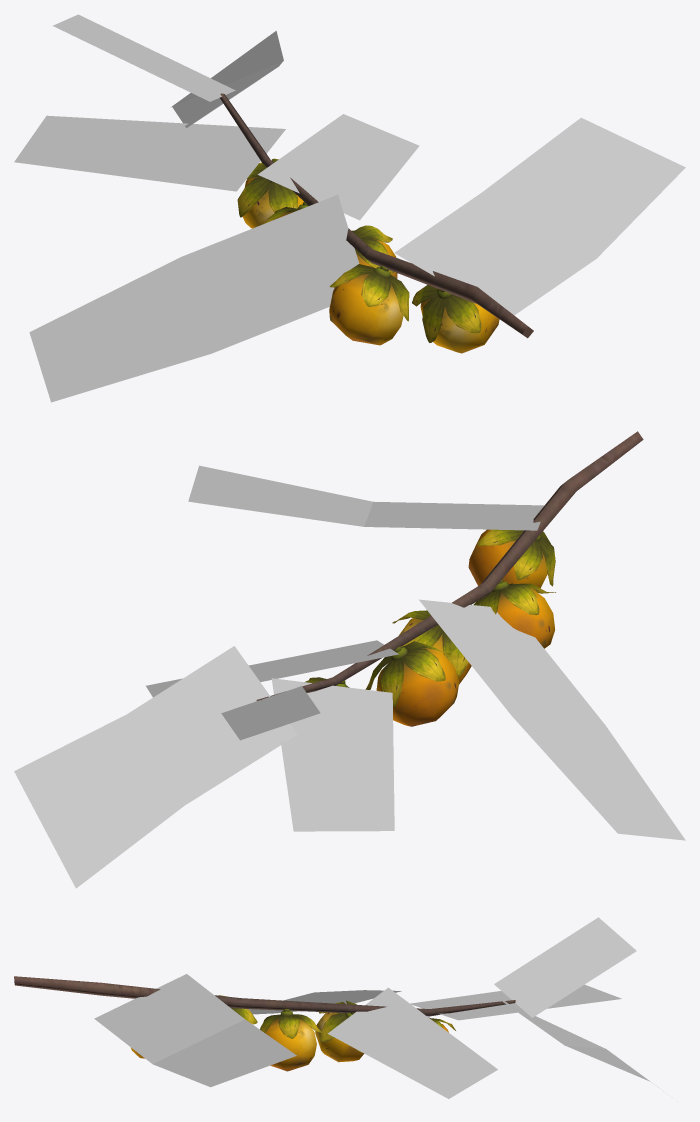
File: Diospyros_Fruit.fbx
3 views of the same model, one above another, from view 1: azimuth 30°, elevation 25°; view 2: azimuth 150°, elevation 25°; view 3: azimuth 270°, elevation 25° (orthographic). The views are drawn at different scales.
Parts seen in each view (by area): view 1: Fruit_LOD0; view 2: Fruit_LOD0; view 3: Fruit_LOD0.
Boxes of the visible parts, left/top/right/bottom form: Fruit_LOD0: left=14, top=14, right=685, bottom=402; Fruit_LOD0: left=14, top=431, right=685, bottom=888; Fruit_LOD0: left=14, top=917, right=663, bottom=1098.
Size of what is drawn, in the model's own units: 29.56 by 10.6 by 41.67.
